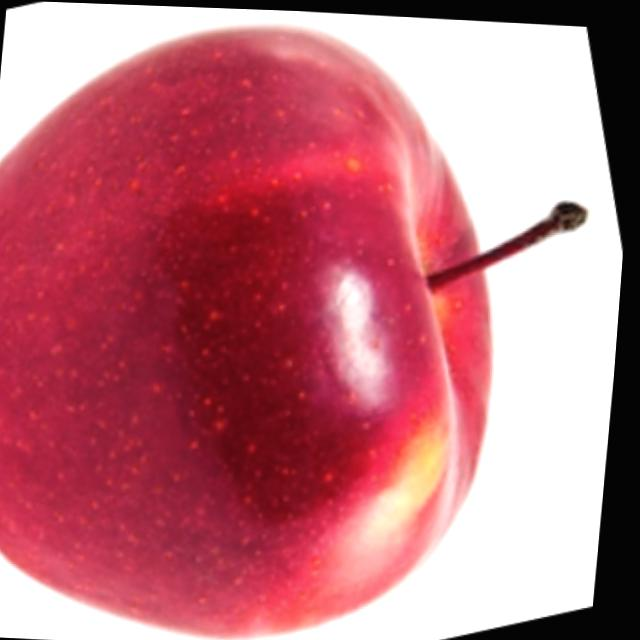organik: (0, 8, 533, 640)
